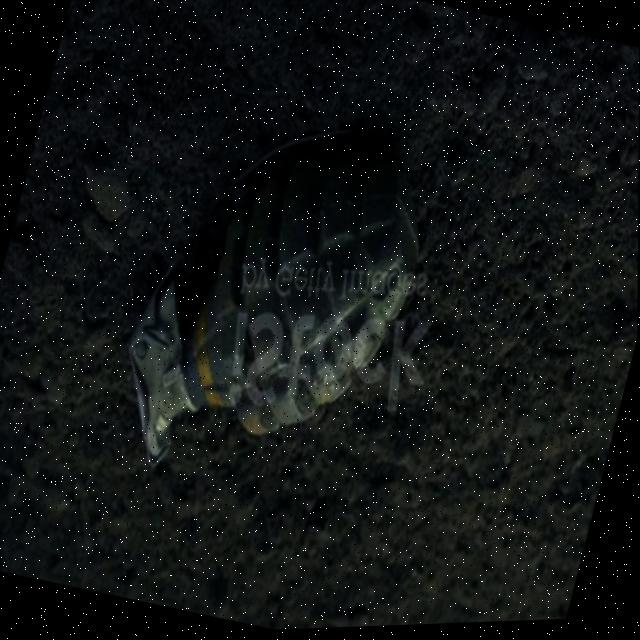grenade: (62, 62, 483, 540)
